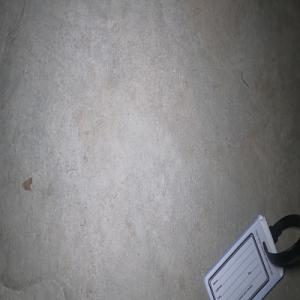LuggageTag: (202, 212, 300, 300)
